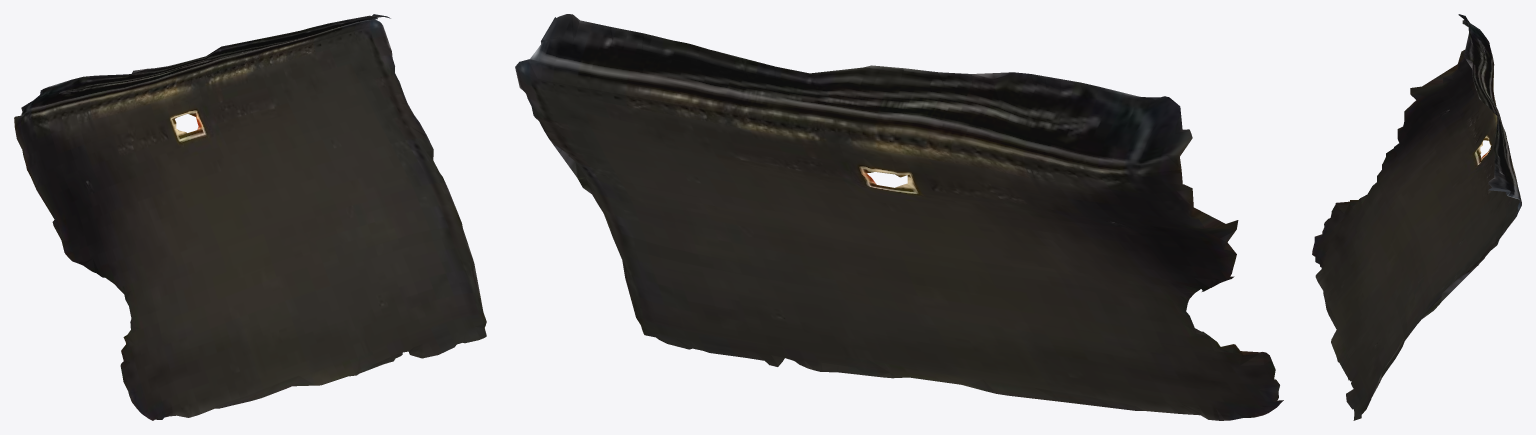
File: observed-surface.glb
3 renders of one model, left to right at view 1: azimuth 30°, elevation 25°; view 2: azimuth 150°, elevation 25°; view 3: azimuth 270°, elevation 25°, orthographic. The views are drawn at different scales.
Visible parts, largest first — view 1: geometry_0; view 2: geometry_0; view 3: geometry_0.
Part boxes in pixels (box(x1,y1,x2,y2)): geometry_0: box(14, 14, 486, 420); geometry_0: box(515, 14, 1283, 420); geometry_0: box(1312, 14, 1521, 420).
Bounding box in the file's own units: 0.7038 × 0.4877 × 0.3695.
Materials: 1 (1 with a texture image).
